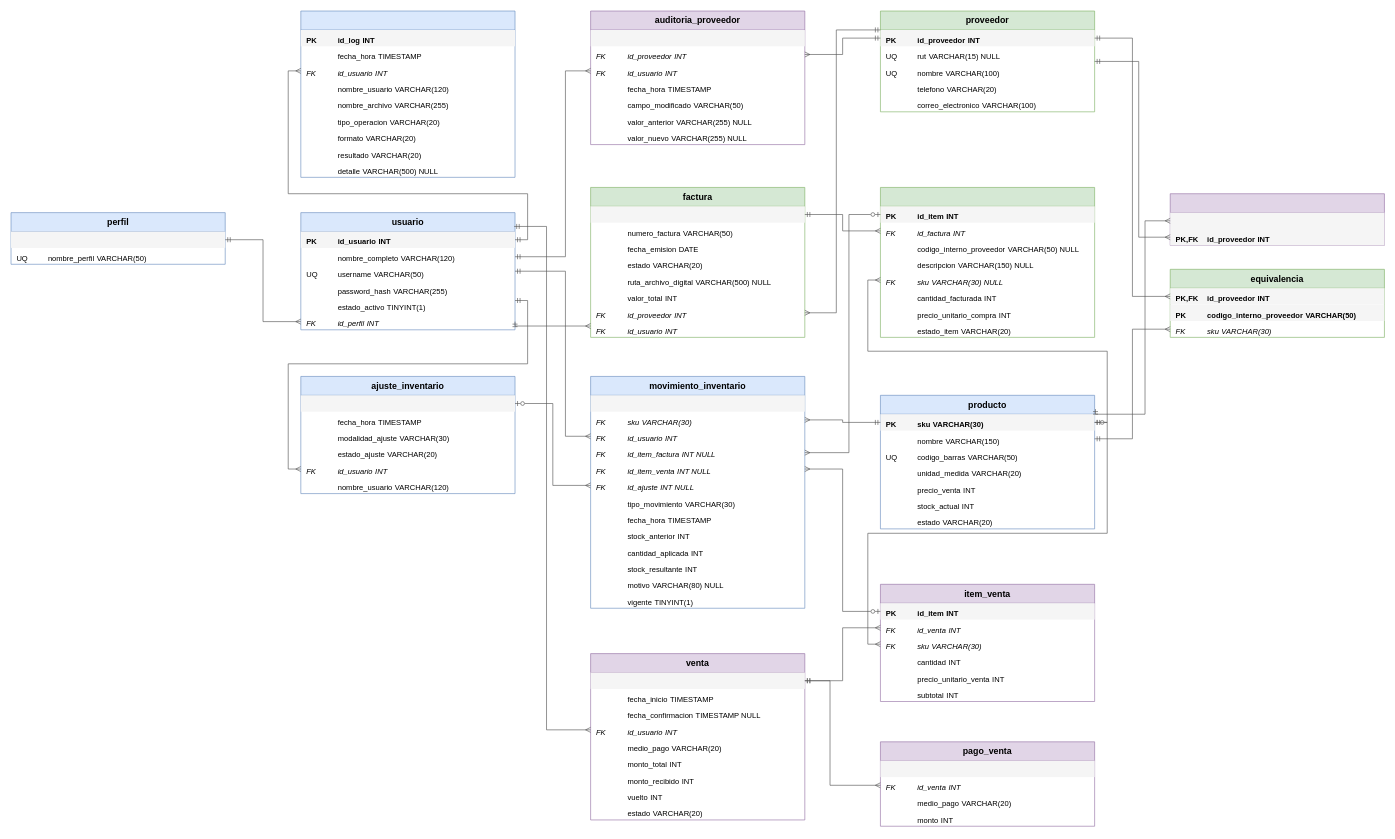
This 1395x839 diagram has some shape labels left out. The shapes that lost their labels are listed below. From the top down, each one's box as (x1, y1, x2, y2) in pixels, then its label:
(590, 30, 805, 46): PK id_auditoria INT
(300, 10, 515, 177): log_archivo
(590, 206, 805, 222): PK id_factura INT
(1170, 193, 1384, 245): producto_proveedor
(1170, 212, 1384, 229): PK,FK sku VARCHAR(30)
(11, 231, 225, 248): PK id_perfil INT
(880, 187, 1095, 337): item_factura
(301, 395, 515, 411): PK id_ajuste INT
(590, 395, 805, 411): PK id_movimiento INT
(590, 672, 805, 689): PK id_venta INT
(880, 760, 1094, 777): PK id_pago INT
